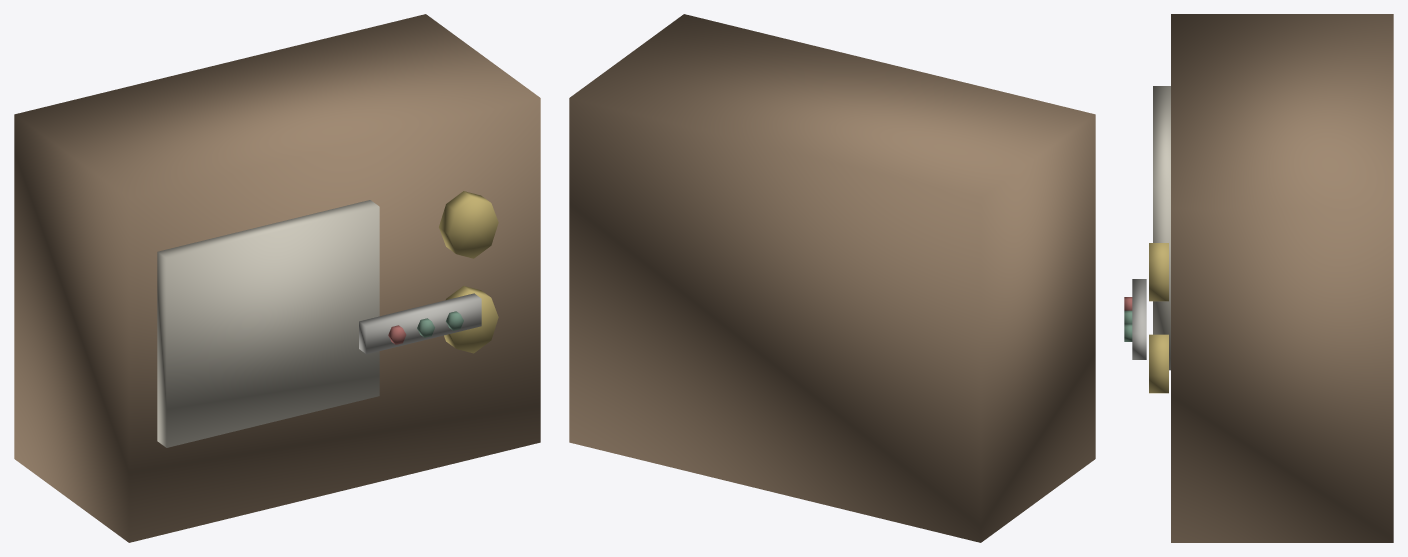
Rendered from tube_radio__tall.glb.
The picture shows the model from 3 angles, left to right: view 1: azimuth 30°, elevation 25°; view 2: azimuth 150°, elevation 25°; view 3: azimuth 270°, elevation 25°; orthographic projection. The views are drawn at different scales.
Visible parts, largest first — view 1: world; view 2: world; view 3: world.
Boxes of the visible parts, box(x1,y1,x2,y2) form: world: box(14, 14, 540, 542); world: box(569, 14, 1095, 542); world: box(1124, 14, 1393, 542).
Bounding box in the file's own units: 0.58 × 0.464 × 0.3385.
